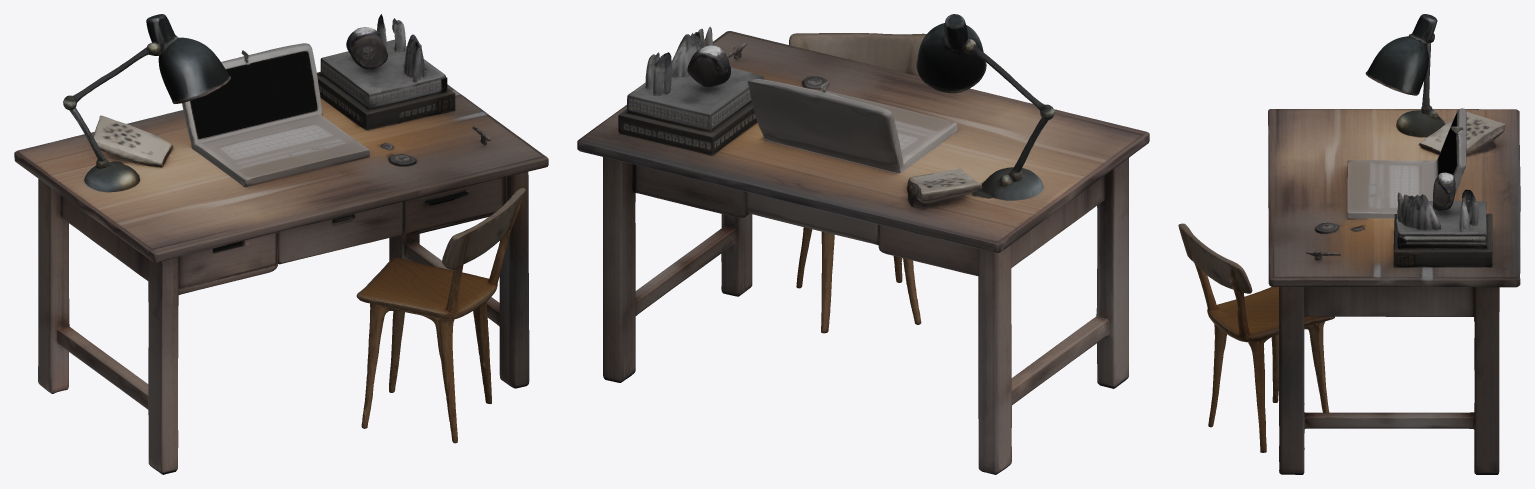
File: sample(3).gltf
The picture shows the model from 3 angles, left to right: view 1: azimuth 30°, elevation 25°; view 2: azimuth 150°, elevation 25°; view 3: azimuth 270°, elevation 25°; orthographic projection. The views are drawn at different scales.
Visible parts, largest first — view 1: world; view 2: world; view 3: world.
Boxes of the visible parts, x1,y1,x2,y2 form: world: (14, 14, 548, 474); world: (577, 14, 1149, 474); world: (1178, 14, 1520, 474).
Bounding box in the file's own units: 1 × 0.9238 × 0.8486.
1 material, 1 textured.
